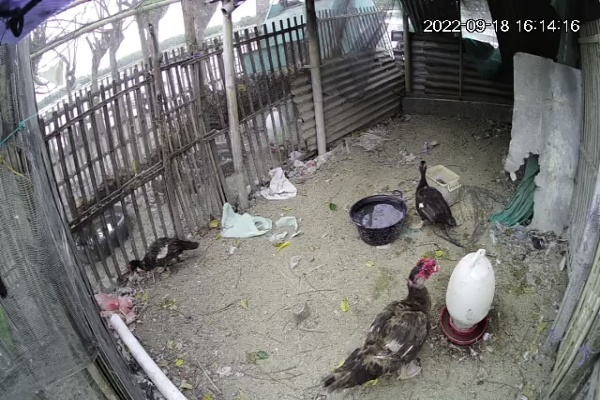Entog: (321, 255, 441, 397), (411, 157, 459, 240), (126, 233, 200, 282)
